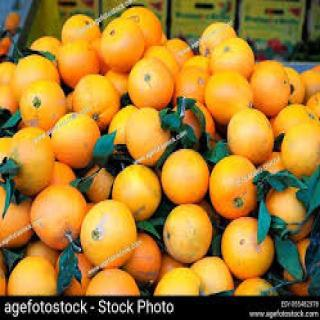orange: (78, 204, 142, 288), (33, 189, 87, 271), (126, 52, 174, 118), (127, 97, 166, 162), (22, 79, 70, 123)
